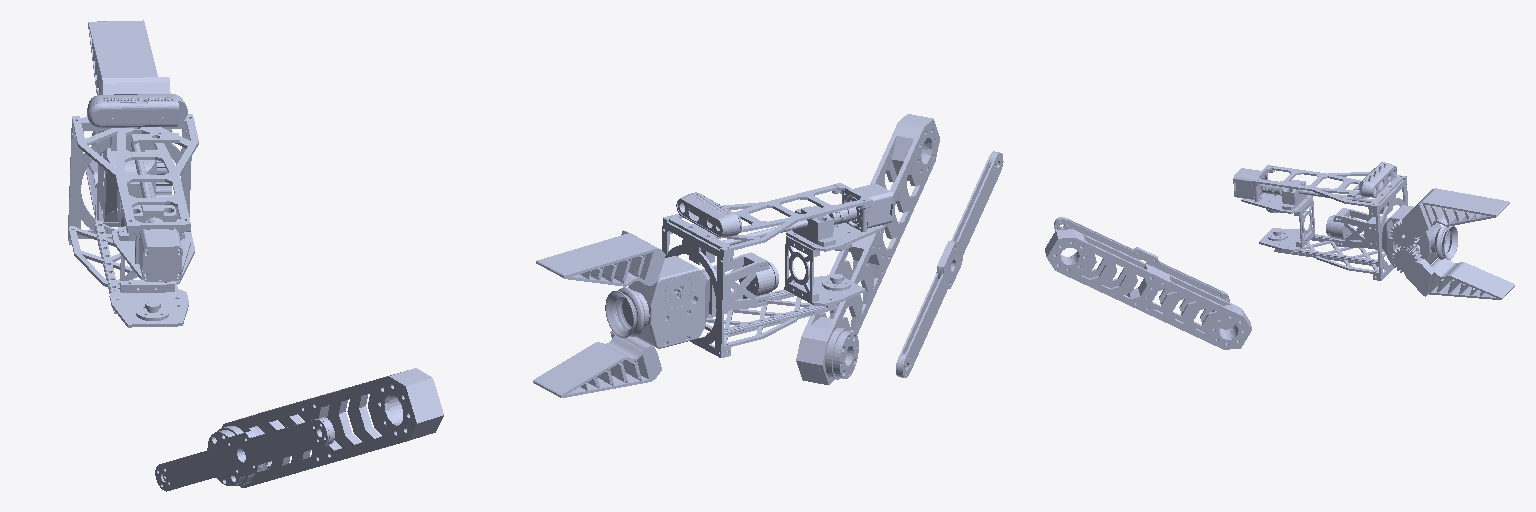
URDF robot description (thth0110):
<?xml version="1.0" ?>
<!-- =================================================================================== -->
<!-- |    This document was autogenerated by xacro from thth0110.xacro                 | -->
<!-- |    EDITING THIS FILE BY HAND IS NOT RECOMMENDED                                 | -->
<!-- =================================================================================== -->
<robot name="thth0110">
  <link name="world"/>
  <joint name="j0" type="fixed">
    <parent link="world"/>
    <child link="base_link"/>
  </joint>
  <link name="base_link">
    <inertial>
      <origin rpy="0 0 0" xyz="-9.46481603199267E-05 0.0581654269418611 0.04866865025217"/>
      <mass value="0.30035406959819"/>
      <inertia ixx="0.00027069543316674" ixy="-2.13815344801898E-07" ixz="7.07320383078014E-09" iyy="0.000180015863465612" iyz="1.47709366545211E-08" izz="0.00044068462099837"/>
    </inertial>
    <visual>
      <origin rpy="0 0 0" xyz="0 0 0"/>
      <geometry>
        <mesh filename="package://thth0110/meshes/base_link.STL"/>
      </geometry>
      <material name="">
        <color rgba="0.792156862745098 0.819607843137255 0.933333333333333 1"/>
      </material>
    </visual>
    <collision>
      <origin rpy="0 0 0" xyz="0 0 0"/>
      <geometry>
        <mesh filename="package://thth0110/meshes/base_link.STL"/>
      </geometry>
    </collision>
  </link>
  <link name="Empty_Link1">
    <inertial>
      <origin rpy="0 0 0" xyz="-0.0151750859915656 -0.00399245087056707 0.0561378060251985"/>
      <mass value="0.549765707356901"/>
      <inertia ixx="0.000475686533877782" ixy="4.1625850388632E-06" ixz="-1.43763812892749E-05" iyy="0.000315008917686389" iyz="-3.03828695806303E-06" izz="0.00049992188258295"/>
    </inertial>
    <visual>
      <origin rpy="0 0 0" xyz="0 0 0"/>
      <geometry>
        <mesh filename="package://thth0110/meshes/Empty_Link1.STL"/>
      </geometry>
      <material name="">
        <color rgba="0.792156862745098 0.819607843137255 0.933333333333333 1"/>
      </material>
    </visual>
    <collision>
      <origin rpy="0 0 0" xyz="0 0 0"/>
      <geometry>
        <mesh filename="package://thth0110/meshes/Empty_Link1.STL"/>
      </geometry>
    </collision>
  </link>
  <joint name="j1" type="revolute">
    <origin rpy="0 0 0" xyz="-0.0001 0.12404 0.0795"/>
    <parent link="base_link"/>
    <child link="Empty_Link1"/>
    <axis xyz="0 0 1"/>
    <limit effort="100" lower="-3.14" upper="3.14" velocity="10"/>
  </joint>
  <link name="Empty_Link2">
    <inertial>
      <origin rpy="0 0 0" xyz="0.0189640183838487 -0.107927238111461 0.0616640229334262"/>
      <mass value="0.325957208001636"/>
      <inertia ixx="0.00154083690657679" ixy="0.000118838442663819" ixz="-6.20108037638599E-05" iyy="0.000441338792782083" iyz="0.000580352445944335" izz="0.0011342341701306"/>
    </inertial>
    <visual>
      <origin rpy="0 0 0" xyz="0 0 0"/>
      <geometry>
        <mesh filename="package://thth0110/meshes/Empty_Link2.STL"/>
      </geometry>
      <material name="">
        <color rgba="0.792156862745098 0.819607843137255 0.933333333333333 1"/>
      </material>
    </visual>
    <collision>
      <origin rpy="0 0 0" xyz="0 0 0"/>
      <geometry>
        <mesh filename="package://thth0110/meshes/Empty_Link2.STL"/>
      </geometry>
    </collision>
  </link>
  <joint name="j2" type="revolute">
    <origin rpy="0 0 0" xyz="0.052203 0.0055779 0.081"/>
    <parent link="Empty_Link1"/>
    <child link="Empty_Link2"/>
    <axis xyz="0.99434 0.10625 0"/>
    <limit effort="100" lower="-3.14" upper="3.14" velocity="10"/>
  </joint>
  <link name="Empty_Link3">
    <inertial>
      <origin rpy="0 0 0" xyz="-0.0381933280232553 0.0584487347507447 0.00319379905981657"/>
      <mass value="0.372416168853818"/>
      <inertia ixx="0.000391637390148341" ixy="1.09586593948885E-05" ixz="-4.5179442129007E-07" iyy="0.000290989542029812" iyz="1.79039949299278E-06" izz="0.000251090686082734"/>
    </inertial>
    <visual>
      <origin rpy="0 0 0" xyz="0 0 0"/>
      <geometry>
        <mesh filename="package://thth0110/meshes/Empty_Link3.STL"/>
      </geometry>
      <material name="">
        <color rgba="0.792156862745098 0.819607843137255 0.933333333333333 1"/>
      </material>
    </visual>
    <collision>
      <origin rpy="0 0 0" xyz="0 0 0"/>
      <geometry>
        <mesh filename="package://thth0110/meshes/Empty_Link3.STL"/>
      </geometry>
    </collision>
  </link>
  <joint name="j3" type="revolute">
    <origin rpy="0 0 0" xyz="0.024986 -0.23384 0.13264"/>
    <parent link="Empty_Link2"/>
    <child link="Empty_Link3"/>
    <axis xyz="0.99434 0.10625 0"/>
    <limit effort="100" lower="-3.14" upper="3.14" velocity="10"/>
  </joint>
  <link name="Empty_Link4">
    <inertial>
      <origin rpy="0 0 0" xyz="-0.0154333677247912 0.14374505039843 0.00674813689898141"/>
      <mass value="0.34066787706499"/>
      <inertia ixx="0.000318598903007456" ixy="2.20601818971233E-05" ixz="1.32285615494824E-06" iyy="0.000122801247546674" iyz="-1.0991461247757E-05" izz="0.000332684335927319"/>
    </inertial>
    <visual>
      <origin rpy="0 0 0" xyz="0 0 0"/>
      <geometry>
        <mesh filename="package://thth0110/meshes/Empty_Link4.STL"/>
      </geometry>
      <material name="">
        <color rgba="0.792156862745098 0.819607843137255 0.933333333333333 1"/>
      </material>
    </visual>
    <collision>
      <origin rpy="0 0 0" xyz="0 0 0"/>
      <geometry>
        <mesh filename="package://thth0110/meshes/Empty_Link4.STL"/>
      </geometry>
    </collision>
  </link>
  <joint name="j4" type="revolute">
    <origin rpy="0 0 0" xyz="-0.03989 0.079198 0.0043217"/>
    <parent link="Empty_Link3"/>
    <child link="Empty_Link4"/>
    <axis xyz="0.1061 -0.99299 -0.052006"/>
    <limit effort="100" lower="-3.14" upper="3.14" velocity="10"/>
  </joint>
  <link name="Empty_Link5">
    <inertial>
      <origin rpy="0 0 0" xyz="0.0231359607951343 0.0491399156551176 0.0483942593470714"/>
      <mass value="0.23163739781675"/>
      <inertia ixx="0.000210954688882632" ixy="-3.6535945786043E-05" ixz="-1.66433364641079E-06" iyy="0.000141806822397899" iyz="-7.03169835125346E-06" izz="0.000281867036595184"/>
    </inertial>
    <visual>
      <origin rpy="0 0 0" xyz="0 0 0"/>
      <geometry>
        <mesh filename="package://thth0110/meshes/Empty_Link5.STL"/>
      </geometry>
      <material name="">
        <color rgba="0.792156862745098 0.819607843137255 0.933333333333333 1"/>
      </material>
    </visual>
    <collision>
      <origin rpy="0 0 0" xyz="0 0 0"/>
      <geometry>
        <mesh filename="package://thth0110/meshes/Empty_Link5.STL"/>
      </geometry>
    </collision>
  </link>
  <joint name="j5" type="revolute">
    <origin rpy="0 0 0" xyz="-0.02458 0.23003 -0.013938"/>
    <parent link="Empty_Link4"/>
    <child link="Empty_Link5"/>
    <axis xyz="0.0055254 -0.051712 0.99865"/>
    <limit effort="100" lower="-3.14" upper="3.14" velocity="10"/>
  </joint>
  <link name="camera_Link">
    <inertial>
      <origin rpy="0 0 0" xyz="0.0106700250722204 -0.00440418433698633 0.000530626053692917"/>
      <mass value="0.0375088017012115"/>
      <inertia ixx="1.94914210099807E-05" ixy="-8.04429593621107E-06" ixz="-1.85033895526069E-07" iyy="5.83588679302749E-06" iyz="-5.07127364470073E-07" izz="2.19002696899909E-05"/>
    </inertial>
    <visual>
      <origin rpy="0 0 0" xyz="0 0 0"/>
      <geometry>
        <mesh filename="package://thth0110/meshes/camera_Link.STL"/>
      </geometry>
      <material name="">
        <color rgba="0.792156862745098 0.819607843137255 0.933333333333333 1"/>
      </material>
    </visual>
    <collision>
      <origin rpy="0 0 0" xyz="0 0 0"/>
      <geometry>
        <mesh filename="package://thth0110/meshes/camera_Link.STL"/>
      </geometry>
    </collision>
  </link>
  <joint name="j_camera" type="fixed">
    <origin rpy="0 0 1.5708" xyz="0.062522 0.13601 0.11875"/>
    <parent link="Empty_Link5"/>
    <child link="camera_Link"/>
    <axis xyz="0 0 0"/>
  </joint>
  <!-- 在 camera_Link 之后添加 -->
  <link name="camera_depth_optical_frame"/>
  <joint name="camera_optical_joint" type="fixed">
    <parent link="camera_Link"/>
    <child link="camera_depth_optical_frame"/>
    <origin rpy="-1.5708 0 -1.5708" xyz="0 0 0"/>
    <!-- -π/2, 0, -π/2 -->
  </joint>
  <link name="Empty_Link6">
    <inertial>
      <origin rpy="0 0 0" xyz="0.00804624017095822 0.0172072554925143 0.0138462486673112"/>
      <mass value="0.0803751499998822"/>
      <inertia ixx="1.44670093386749E-05" ixy="3.55129167972648E-06" ixz="1.17738318901375E-07" iyy="2.09529105725378E-05" iyz="2.29151889595778E-07" izz="1.6672704802587E-05"/>
    </inertial>
    <visual>
      <origin rpy="0 0 0" xyz="0 0 0"/>
      <geometry>
        <mesh filename="package://thth0110/meshes/Empty_Link6.STL"/>
      </geometry>
      <material name="">
        <color rgba="0.792156862745098 0.819607843137255 0.933333333333333 1"/>
      </material>
    </visual>
    <collision>
      <origin rpy="0 0 0" xyz="0 0 0"/>
      <geometry>
        <mesh filename="package://thth0110/meshes/Empty_Link6.STL"/>
      </geometry>
    </collision>
  </link>
  <joint name="j6" type="prismatic">
    <origin rpy="0 0 0" xyz="0.019598 0.042485 0.028077"/>
    <parent link="Empty_Link5"/>
    <child link="Empty_Link6"/>
    <axis xyz="0.40528 0.91308 0.045039"/>
    <limit effort="100" lower="0" upper="0.1" velocity="0.01"/>
  </joint>
  <link name="Empty_Link7">
    <inertial>
      <origin rpy="0 0 0" xyz="0.060959 0.13897 0.0076845"/>
      <mass value="0.26037"/>
      <inertia ixx="0.00022297" ixy="-4.6396E-05" ixz="-1.0121E-05" iyy="0.00013828" iyz="-4.3766E-06" izz="0.00018924"/>
    </inertial>
    <visual>
      <origin rpy="0 0 0" xyz="0 0 0"/>
      <geometry>
        <mesh filename="package://thth0110/meshes/Empty_Link7.STL"/>
      </geometry>
      <material name="">
        <color rgba="0.79216 0.81961 0.93333 1"/>
      </material>
    </visual>
    <collision>
      <origin rpy="0 0 0" xyz="0 0 0"/>
      <geometry>
        <mesh filename="package://thth0110/meshes/Empty_Link7.STL"/>
      </geometry>
    </collision>
  </link>
  <joint name="j7" type="revolute">
    <origin rpy="0 0 0" xyz="0 0 0"/>
    <parent link="Empty_Link6"/>
    <child link="Empty_Link7"/>
    <axis xyz="0.40528 0.91308 0.045039"/>
    <limit effort="100" lower="-3.14" upper="3.14" velocity="10"/>
  </joint>
  <link name="Empty_Link8">
    <inertial>
      <origin rpy="0 0 0" xyz="0.0097007 0.050032 -0.026523"/>
      <mass value="0.11578"/>
      <inertia ixx="0.00010505" ixy="-1.9951E-05" ixz="-6.9402E-07" iyy="5.504E-05" iyz="1.4536E-05" izz="0.00011524"/>
    </inertial>
    <visual>
      <origin rpy="0 0 0" xyz="0 0 0"/>
      <geometry>
        <mesh filename="package://thth0110/meshes/Empty_Link8.STL"/>
      </geometry>
      <material name="">
        <color rgba="0.79216 0.81961 0.93333 1"/>
      </material>
    </visual>
    <collision>
      <origin rpy="0 0 0" xyz="0 0 0"/>
      <geometry>
        <mesh filename="package://thth0110/meshes/Empty_Link8.STL"/>
      </geometry>
    </collision>
  </link>
  <joint name="j8" type="revolute">
    <origin rpy="0 0 0" xyz="0.091108 0.15115 -0.013476"/>
    <parent link="Empty_Link7"/>
    <child link="Empty_Link8"/>
    <axis xyz="-0.91417 0.40449 0.026003"/>
    <limit effort="100" lower="-3.14" upper="3.14" velocity="10"/>
  </joint>
  <link name="Empty_Link9">
    <inertial>
      <origin rpy="0 0 0" xyz="-0.00893984042603618 0.048320629256864 0.0296874404855317"/>
      <mass value="0.131989761107744"/>
      <inertia ixx="0.000111060813609043" ixy="-2.07000854026729E-05" ixz="-3.6474244468331E-06" iyy="6.6480015232698E-05" iyz="-2.33141757887285E-05" izz="0.000114122417790849"/>
    </inertial>
    <visual>
      <origin rpy="0 0 0" xyz="0 0 0"/>
      <geometry>
        <mesh filename="package://thth0110/meshes/Empty_Link9.STL"/>
      </geometry>
      <material name="">
        <color rgba="0.792156862745098 0.819607843137255 0.933333333333333 1"/>
      </material>
    </visual>
    <collision>
      <origin rpy="0 0 0" xyz="0 0 0"/>
      <geometry>
        <mesh filename="package://thth0110/meshes/Empty_Link9.STL"/>
      </geometry>
    </collision>
  </link>
  <joint name="j9" type="revolute">
    <origin rpy="0 0 0" xyz="0.10608 0.14259 0.026824"/>
    <parent link="Empty_Link7"/>
    <child link="Empty_Link9"/>
    <axis xyz="-0.91417 0.40449 0.026003"/>
    <limit effort="100" lower="-3.14" upper="3.14" velocity="10"/>
    <!-- 👇 关键：添加 mimic -->
    <mimic joint="j8" multiplier="-1.0" offset="0.0"/>
  </joint>
  <transmission name="tran_j1">
    <!-- 关联关节名-传动名 -->
    <type>transmission_interface/SimpleTransmission</type>
    <!-- 简单传动 -->
    <joint name="j1">
      <hardwareInterface>hardware_interface/PositionJointInterface</hardwareInterface>
      <!-- 位置控制接口 -->
    </joint>
    <actuator name="motor_j1">
      <!-- 关联关节名-电机名 -->
      <hardwareInterface>hardware_interface/PositionJointInterface</hardwareInterface>
      <!-- 位置控制接口-必须保持一致 -->
      <mechanicalReduction>1</mechanicalReduction>
      <!-- 机械减速比-1表示无减速比 -->
    </actuator>
  </transmission>
  <transmission name="tran_j2">
    <!-- 关联关节名-传动名 -->
    <type>transmission_interface/SimpleTransmission</type>
    <!-- 简单传动 -->
    <joint name="j2">
      <hardwareInterface>hardware_interface/PositionJointInterface</hardwareInterface>
      <!-- 位置控制接口 -->
    </joint>
    <actuator name="motor_j2">
      <!-- 关联关节名-电机名 -->
      <hardwareInterface>hardware_interface/PositionJointInterface</hardwareInterface>
      <!-- 位置控制接口-必须保持一致 -->
      <mechanicalReduction>1</mechanicalReduction>
      <!-- 机械减速比-1表示无减速比 -->
    </actuator>
  </transmission>
  <transmission name="tran_j3">
    <!-- 关联关节名-传动名 -->
    <type>transmission_interface/SimpleTransmission</type>
    <!-- 简单传动 -->
    <joint name="j3">
      <hardwareInterface>hardware_interface/PositionJointInterface</hardwareInterface>
      <!-- 位置控制接口 -->
    </joint>
    <actuator name="motor_j3">
      <!-- 关联关节名-电机名 -->
      <hardwareInterface>hardware_interface/PositionJointInterface</hardwareInterface>
      <!-- 位置控制接口-必须保持一致 -->
      <mechanicalReduction>1</mechanicalReduction>
      <!-- 机械减速比-1表示无减速比 -->
    </actuator>
  </transmission>
  <transmission name="tran_j4">
    <!-- 关联关节名-传动名 -->
    <type>transmission_interface/SimpleTransmission</type>
    <!-- 简单传动 -->
    <joint name="j4">
      <hardwareInterface>hardware_interface/PositionJointInterface</hardwareInterface>
      <!-- 位置控制接口 -->
    </joint>
    <actuator name="motor_j4">
      <!-- 关联关节名-电机名 -->
      <hardwareInterface>hardware_interface/PositionJointInterface</hardwareInterface>
      <!-- 位置控制接口-必须保持一致 -->
      <mechanicalReduction>1</mechanicalReduction>
      <!-- 机械减速比-1表示无减速比 -->
    </actuator>
  </transmission>
  <transmission name="tran_j5">
    <!-- 关联关节名-传动名 -->
    <type>transmission_interface/SimpleTransmission</type>
    <!-- 简单传动 -->
    <joint name="j5">
      <hardwareInterface>hardware_interface/PositionJointInterface</hardwareInterface>
      <!-- 位置控制接口 -->
    </joint>
    <actuator name="motor_j5">
      <!-- 关联关节名-电机名 -->
      <hardwareInterface>hardware_interface/PositionJointInterface</hardwareInterface>
      <!-- 位置控制接口-必须保持一致 -->
      <mechanicalReduction>1</mechanicalReduction>
      <!-- 机械减速比-1表示无减速比 -->
    </actuator>
  </transmission>
  <transmission name="tran_j6">
    <!-- 关联关节名-传动名 -->
    <type>transmission_interface/SimpleTransmission</type>
    <!-- 简单传动 -->
    <joint name="j6">
      <hardwareInterface>hardware_interface/PositionJointInterface</hardwareInterface>
      <!-- 位置控制接口 -->
    </joint>
    <actuator name="motor_j6">
      <!-- 关联关节名-电机名 -->
      <hardwareInterface>hardware_interface/PositionJointInterface</hardwareInterface>
      <!-- 位置控制接口-必须保持一致 -->
      <mechanicalReduction>1</mechanicalReduction>
      <!-- 机械减速比-1表示无减速比 -->
    </actuator>
  </transmission>
  <transmission name="tran_j7">
    <!-- 关联关节名-传动名 -->
    <type>transmission_interface/SimpleTransmission</type>
    <!-- 简单传动 -->
    <joint name="j7">
      <hardwareInterface>hardware_interface/PositionJointInterface</hardwareInterface>
      <!-- 位置控制接口 -->
    </joint>
    <actuator name="motor_j7">
      <!-- 关联关节名-电机名 -->
      <hardwareInterface>hardware_interface/PositionJointInterface</hardwareInterface>
      <!-- 位置控制接口-必须保持一致 -->
      <mechanicalReduction>1</mechanicalReduction>
      <!-- 机械减速比-1表示无减速比 -->
    </actuator>
  </transmission>
  <transmission name="tran_j8">
    <!-- 关联关节名-传动名 -->
    <type>transmission_interface/SimpleTransmission</type>
    <!-- 简单传动 -->
    <joint name="j8">
      <hardwareInterface>hardware_interface/PositionJointInterface</hardwareInterface>
      <!-- 位置控制接口 -->
    </joint>
    <actuator name="motor_j8">
      <!-- 关联关节名-电机名 -->
      <hardwareInterface>hardware_interface/PositionJointInterface</hardwareInterface>
      <!-- 位置控制接口-必须保持一致 -->
      <mechanicalReduction>1</mechanicalReduction>
      <!-- 机械减速比-1表示无减速比 -->
    </actuator>
  </transmission>
  <!-- 夹爪主副 -->
  <!-- ros_control plugin -->
  <gazebo>
    <plugin filename="libgazebo_ros_control.so" name="gazebo_ros_control">
      <robotNamespace>/thth0110</robotNamespace>
      <robotSimType>gazebo_ros_control/DefaultRobotHWSim</robotSimType>
      <legacyModeNS>true</legacyModeNS>
    </plugin>
  </gazebo>
  <!-- Mimic joint plugin for j9 mimicking j8 -->
  <gazebo>
    <plugin filename="libroboticsgroup_gazebo_mimic_joint_plugin.so" name="mimic_joint_plugin_j9">
      <joint>j8</joint>
      <mimicJoint>j9</mimicJoint>
      <multiplier>-1.0</multiplier>
      <offset>0.0</offset>
    </plugin>
  </gazebo>
  <!-- Gazebo plugin for depth camera -->
  <gazebo reference="camera_Link">
    <sensor name="d455_depth" type="depth">
      <update_rate>30.0</update_rate>
      <camera>
        <horizontal_fov>1.658</horizontal_fov>
        <!-- ～95 deg -->
        <image>
          <width>1280</width>
          <height>720</height>
          <!-- 移除 format，让插件自动处理 RGB 和 Depth -->
        </image>
        <clip>
          <near>0.4</near>
          <far>10.0</far>
        </clip>
      </camera>
      <plugin filename="libgazebo_ros_openni_kinect.so" name="depth_controller">
        <cameraName>d455</cameraName>
        <imageTopicName>/camera/color/image_raw</imageTopicName>
        <depthImageTopicName>/camera/depth/image_raw</depthImageTopicName>
        <pointCloudTopicName>/camera/depth/points</pointCloudTopicName>
        <cameraInfoTopicName>/camera/color/camera_info</cameraInfoTopicName>
        <depthImageCameraInfoTopicName>/camera/depth/camera_info</depthImageCameraInfoTopicName>
        <frameName>camera_depth_optical_frame</frameName>
        <!-- baseline, distortion 参数可省略 -->
        <pointCloudCutoff>0.4</pointCloudCutoff>
        <pointCloudCutoffMax>10.0</pointCloudCutoffMax>
      </plugin>
    </sensor>
  </gazebo>
</robot>

--- Render facts (derived) ---
The picture shows the robot from 3 angles, left to right: view 1: azimuth 30°, elevation 25°; view 2: azimuth 150°, elevation 25°; view 3: azimuth 270°, elevation 25°; orthographic projection.
Model thth0110 with 13 links and 12 joints (8 revolute, 1 prismatic, 3 fixed), rooted at world, posed every joint at zero.
Links seen in each view (by area): view 1: Empty_Link5, Empty_Link2, Empty_Link9, camera_Link, Empty_Link7, Empty_Link8; view 2: Empty_Link5, Empty_Link2, Empty_Link7, Empty_Link9, Empty_Link8, camera_Link; view 3: Empty_Link2, Empty_Link5, Empty_Link8, Empty_Link7, Empty_Link9, camera_Link.
Boxes of the visible links, bbox=[...] form: Empty_Link5: bbox=[68, 114, 198, 327]; Empty_Link2: bbox=[155, 368, 443, 491]; Empty_Link9: bbox=[88, 20, 172, 171]; camera_Link: bbox=[87, 94, 187, 127]; Empty_Link7: bbox=[92, 131, 156, 226]; Empty_Link8: bbox=[86, 160, 171, 226]; Empty_Link5: bbox=[662, 183, 892, 357]; Empty_Link2: bbox=[796, 114, 1003, 384]; Empty_Link7: bbox=[605, 252, 778, 348]; Empty_Link9: bbox=[536, 230, 691, 307]; Empty_Link8: bbox=[533, 331, 661, 397]; camera_Link: bbox=[676, 192, 741, 236]; Empty_Link2: bbox=[1045, 217, 1251, 349]; Empty_Link5: bbox=[1233, 165, 1407, 280]; Empty_Link8: bbox=[1391, 246, 1514, 299]; Empty_Link7: bbox=[1326, 205, 1457, 265]; Empty_Link9: bbox=[1390, 188, 1509, 249]; camera_Link: bbox=[1359, 162, 1396, 196].
Bounding box of the posed robot: 0.2158 × 0.6932 × 0.2854 m (x, y, z).
Meshes: 11 distinct files referenced, 6 mesh visuals loaded (6 binary STL); not drawn: 5 (reference not matched to a file when rendering).
